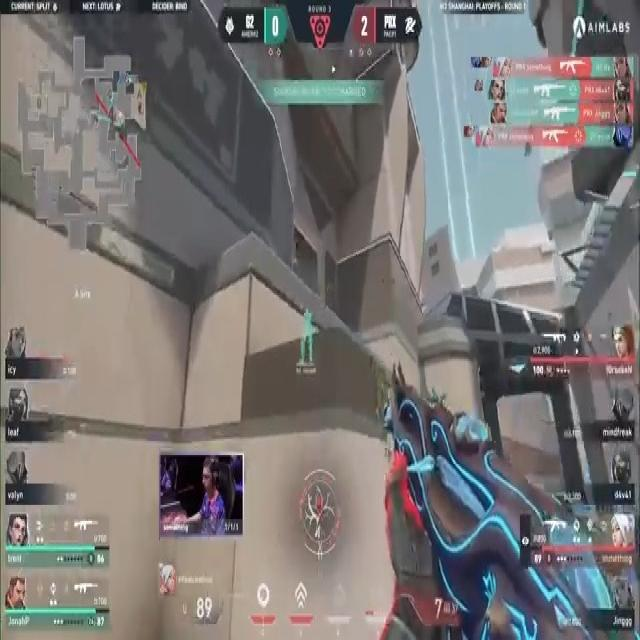ally behind wall: (300, 305, 314, 375)
